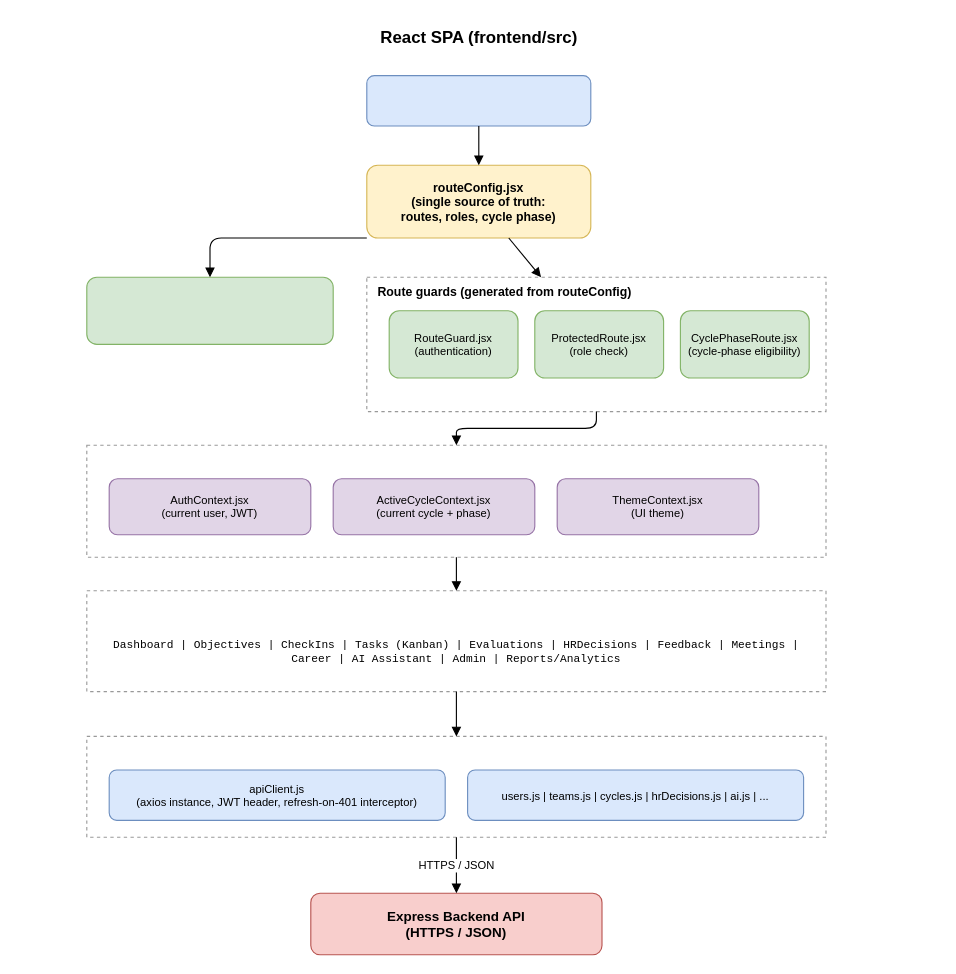
This 956x974 diagram has some shape labels left out. The shapes that lost their labels are listed below. From the top down, each one's box as (x1, y1, x2, y2) in pixels, then its label:
(366, 74, 591, 126): App.jsx
(86, 276, 333, 344): EnterpriseSidebar.jsx / Sidebar.jsx (generated from routeConfig)
(86, 444, 826, 557): Context providers (components/)
(86, 590, 826, 692): Lazy-loaded pages (pages/)
(86, 735, 826, 837): API client layer (src/api/)
